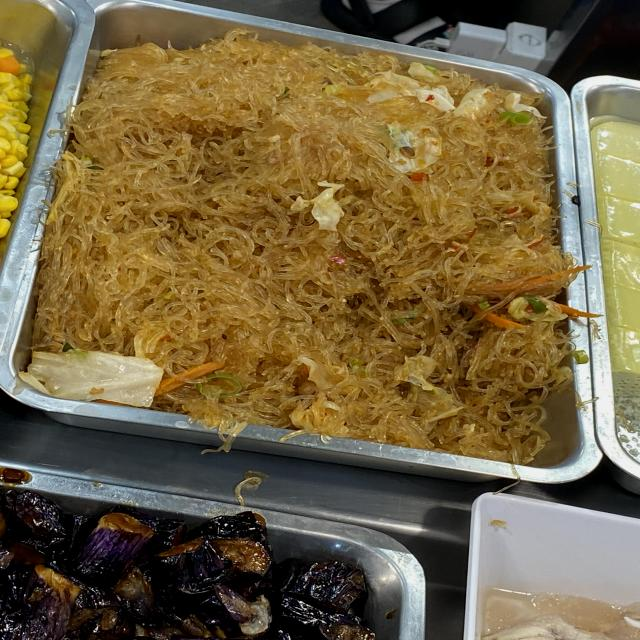Ants climbing the tree: (110, 92, 512, 382)
